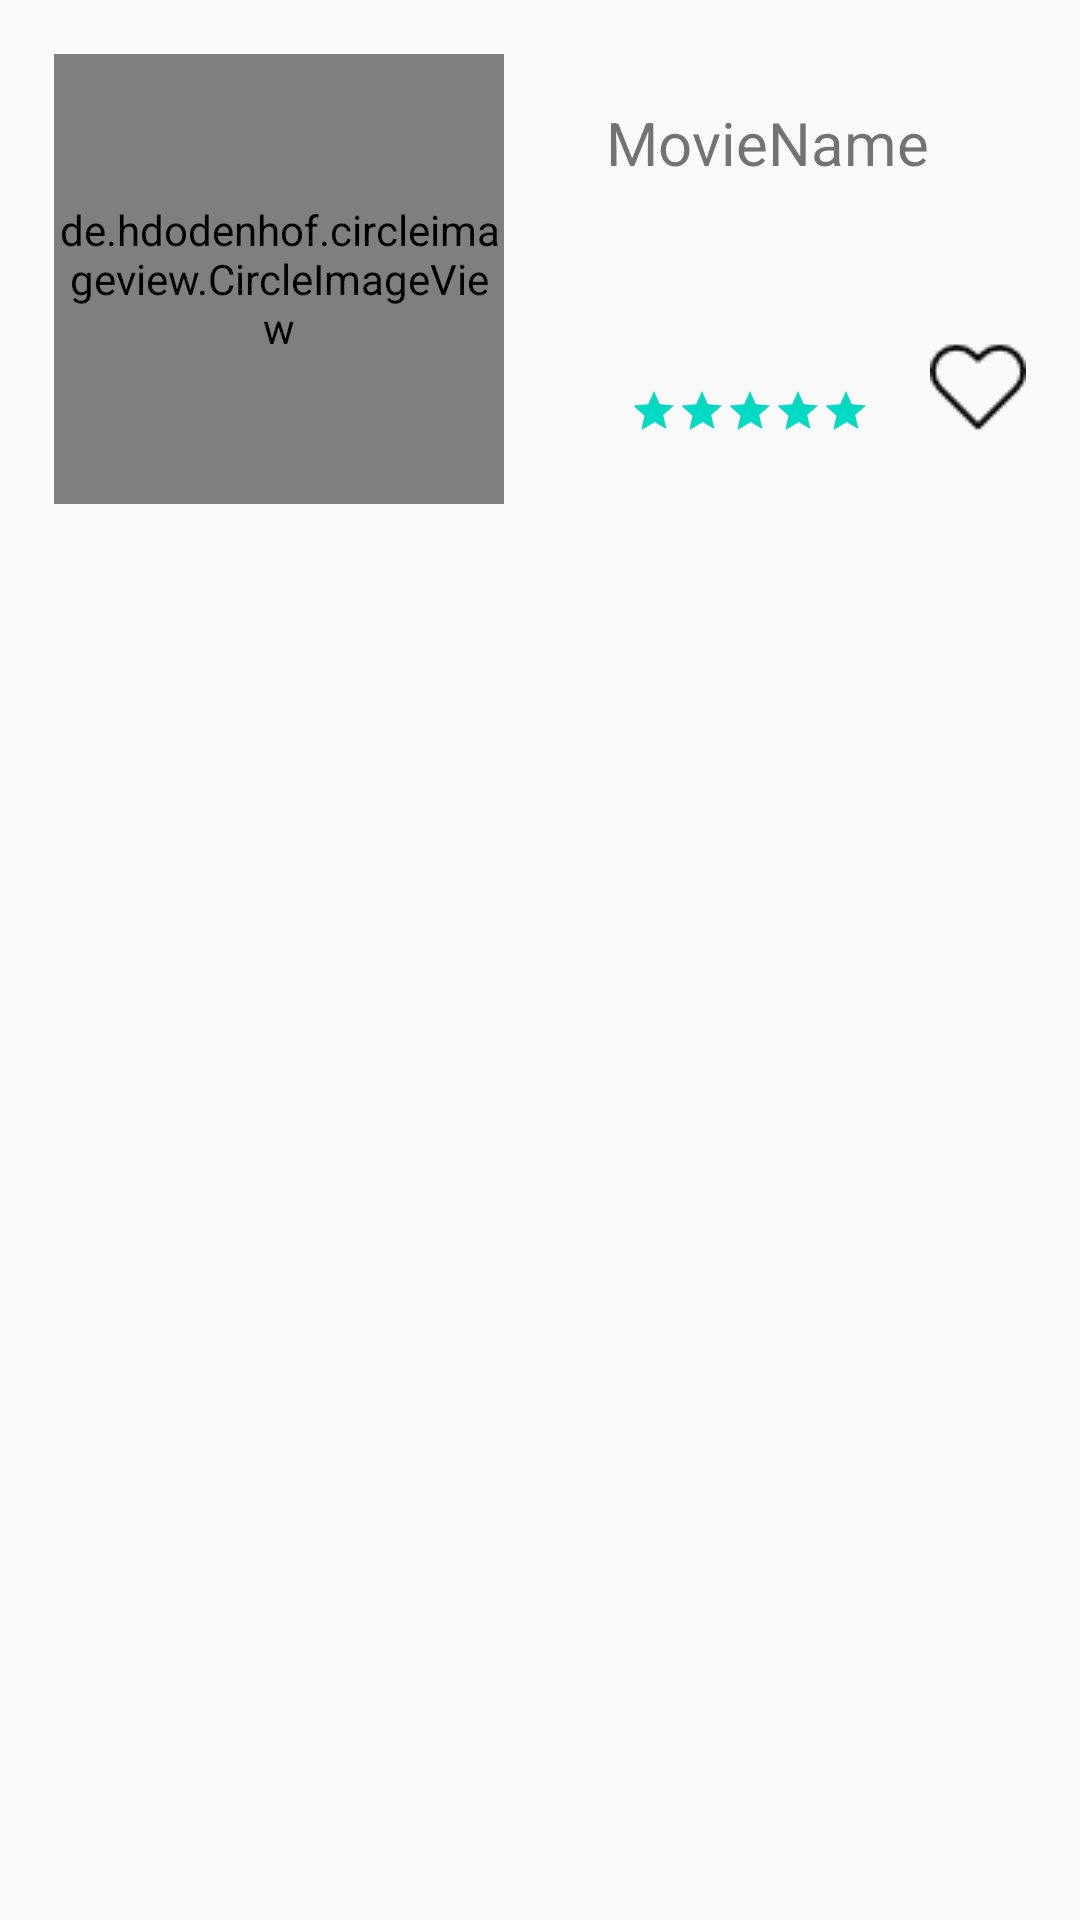

Locate icon controls on the screen. Image size 1080×1920, boxes as (x1, y1, x2, y2).
heart unch: (930, 344, 1026, 430)
